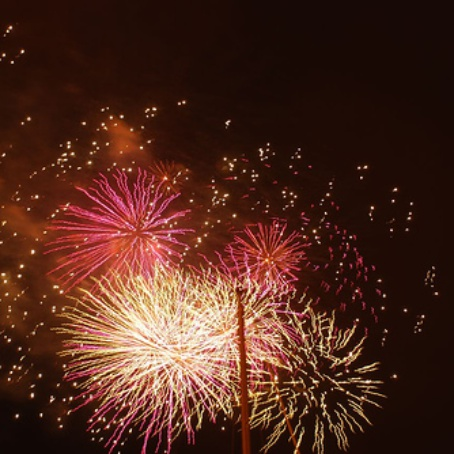fireworks: (1, 1, 454, 454)
